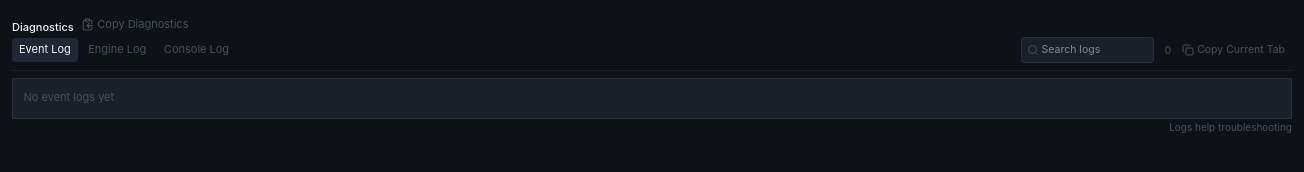
Test case: DiagnosticsModal 组件 › 日志搜索：输入关键词过滤当前标签页行 + 行数显示命中数（v1.2）
Click the button with class "diag-tab" showing "Engine Log" at (117, 50), box [81,38,153,62]
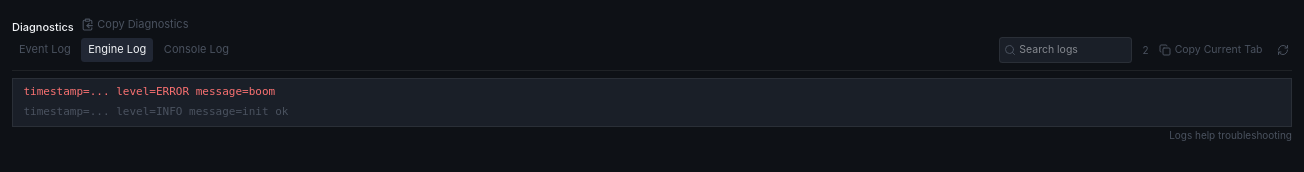
Type "boom" into the field with class "diag-search-input" at (1066, 50), box [999,37,1132,63]
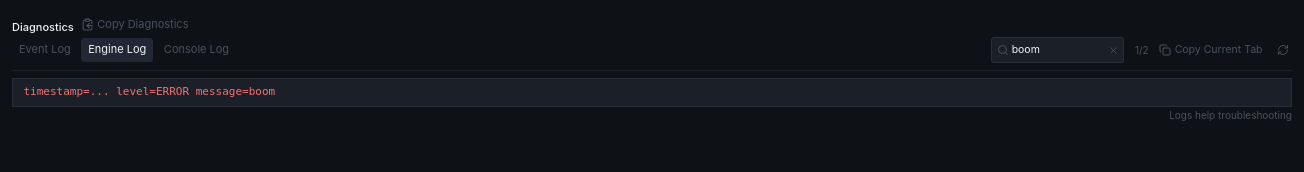
Result: the text "message=boom" is shown at [24,85,275,98]
Result: the text "message=init ok" is gone
Result: the text with class "diag-count" reads "1/2" at [1135,42,1149,58]
Click the button with class "diag-search-clear" at (1114, 50), box [1107,43,1121,57]
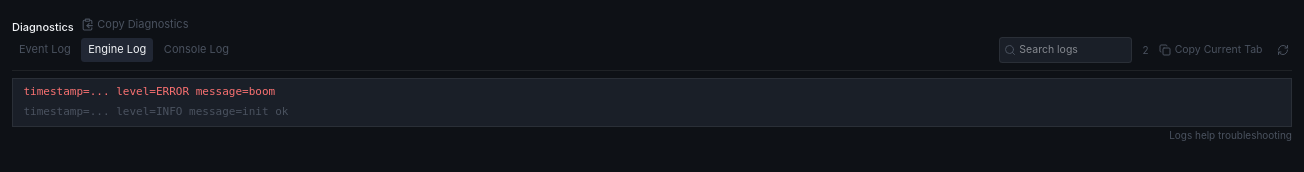
Expected: the text with class "diag-count" reads "2", [1142,44,1149,56]
Result: the text "message=init ok" is shown at [24,105,288,118]
